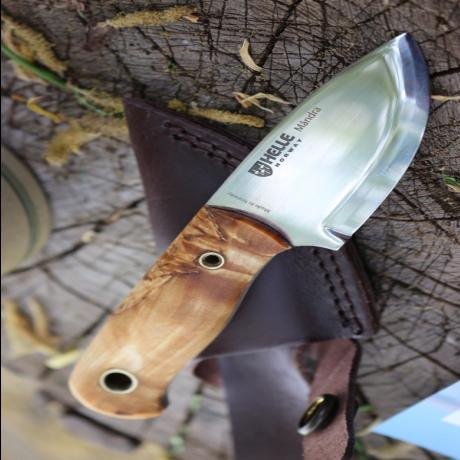weapon: (64, 31, 432, 422)
